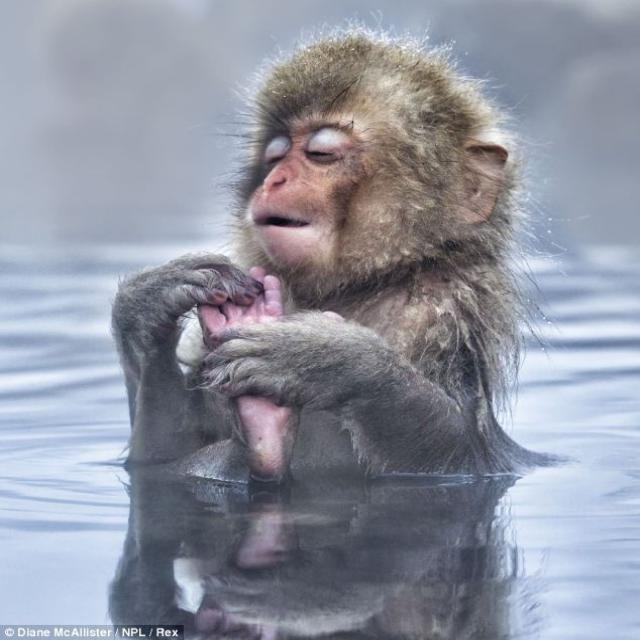not_pig: (109, 16, 572, 486)
